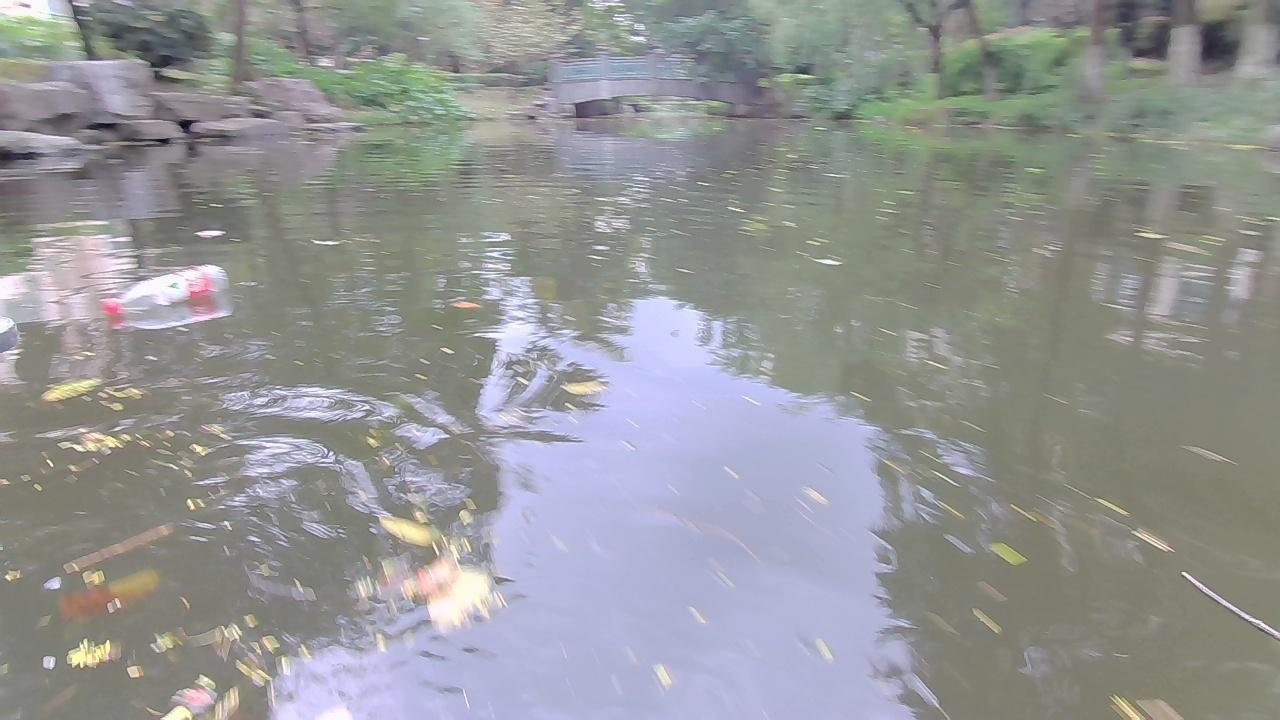bottle: (100, 262, 234, 329)
